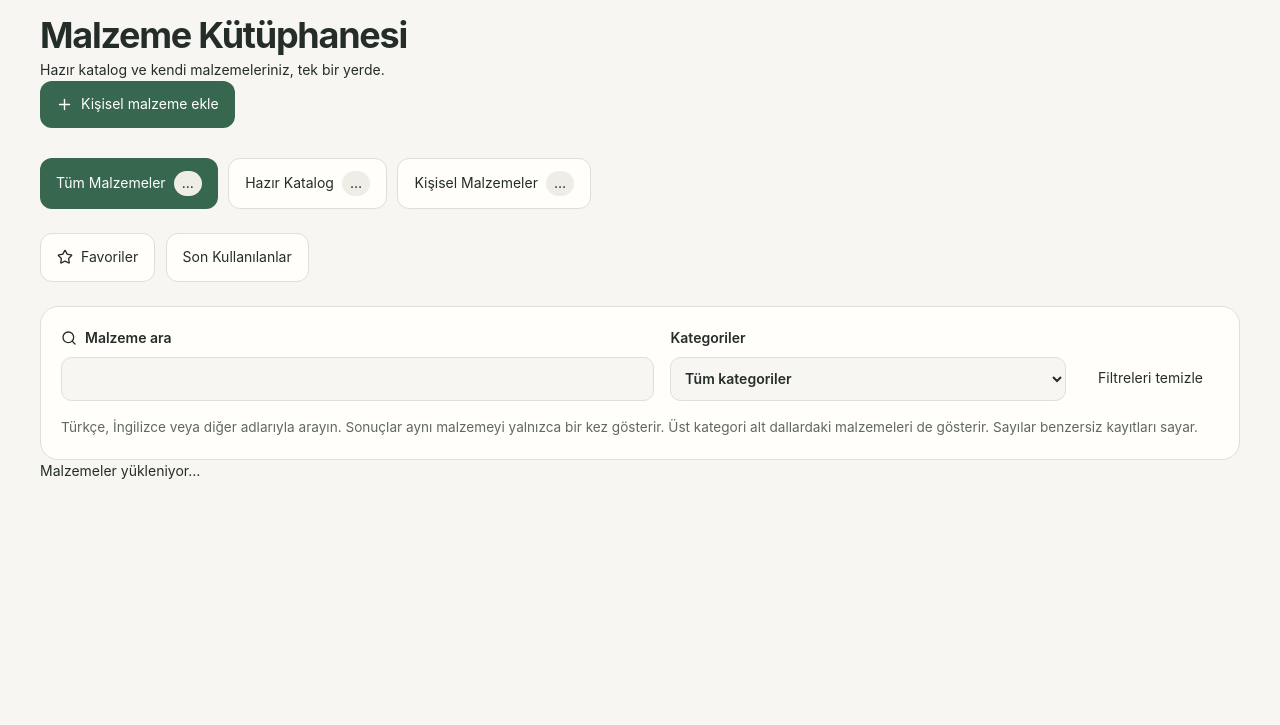
Test case: exact collision cannot be acknowledged as a new personal ingredient
Click the button "Kişisel malzeme ekle". click: (137, 104)
box: [40,81,235,128]
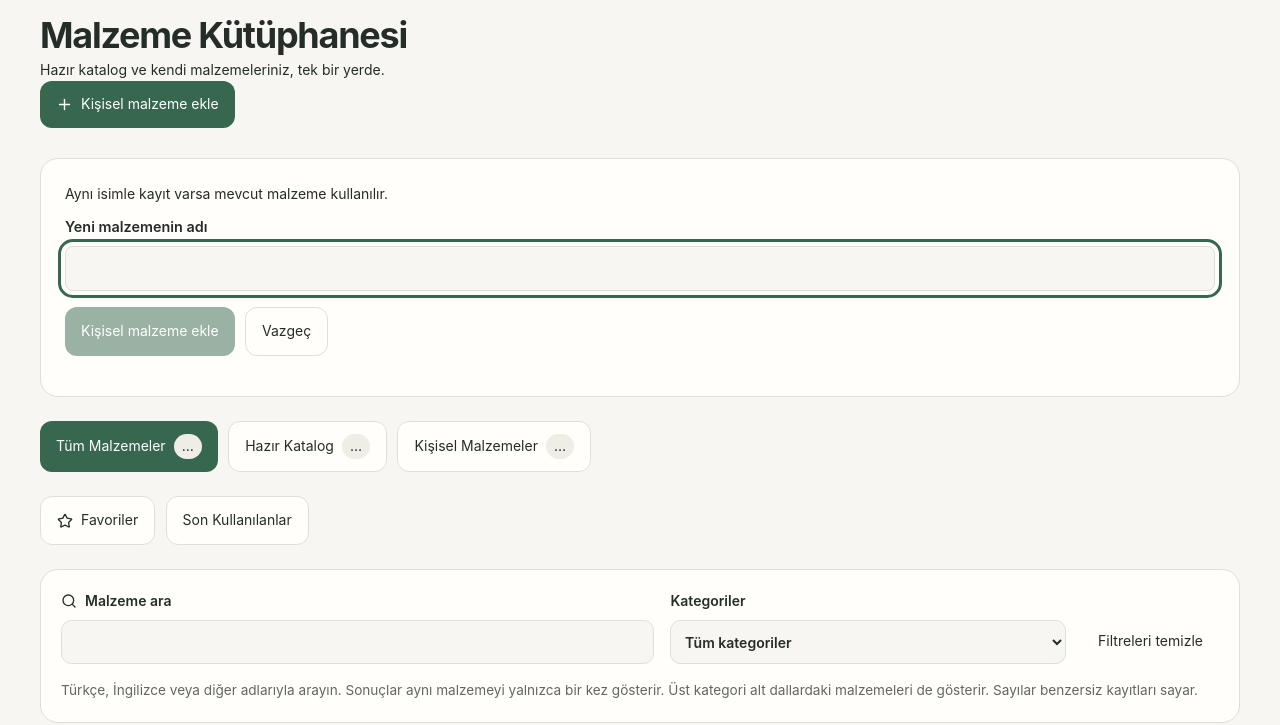
Type "Toz şeker" into the field labelled "Yeni malzemenin adı". click: (640, 268)
box: [65,246,1215,291]
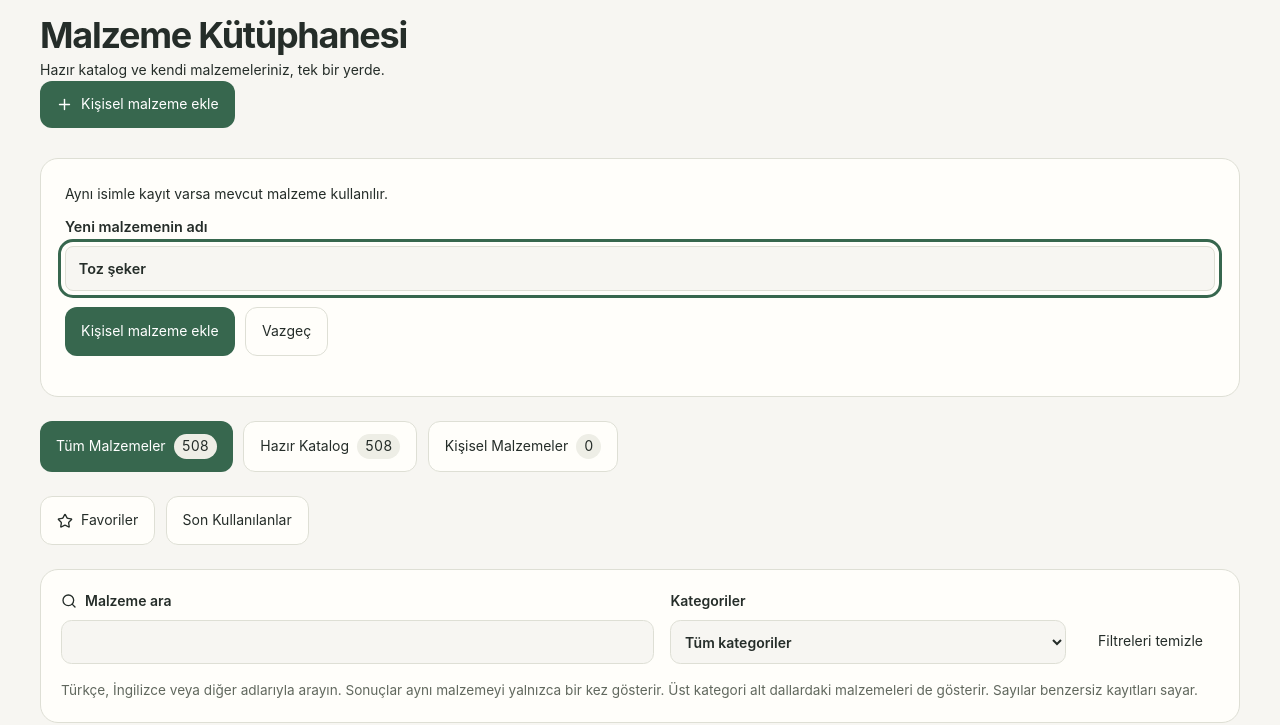
Click the button "Kişisel malzeme ekle" below "Yeni malzemenin adı". click: (150, 332)
box: [65,307,235,356]
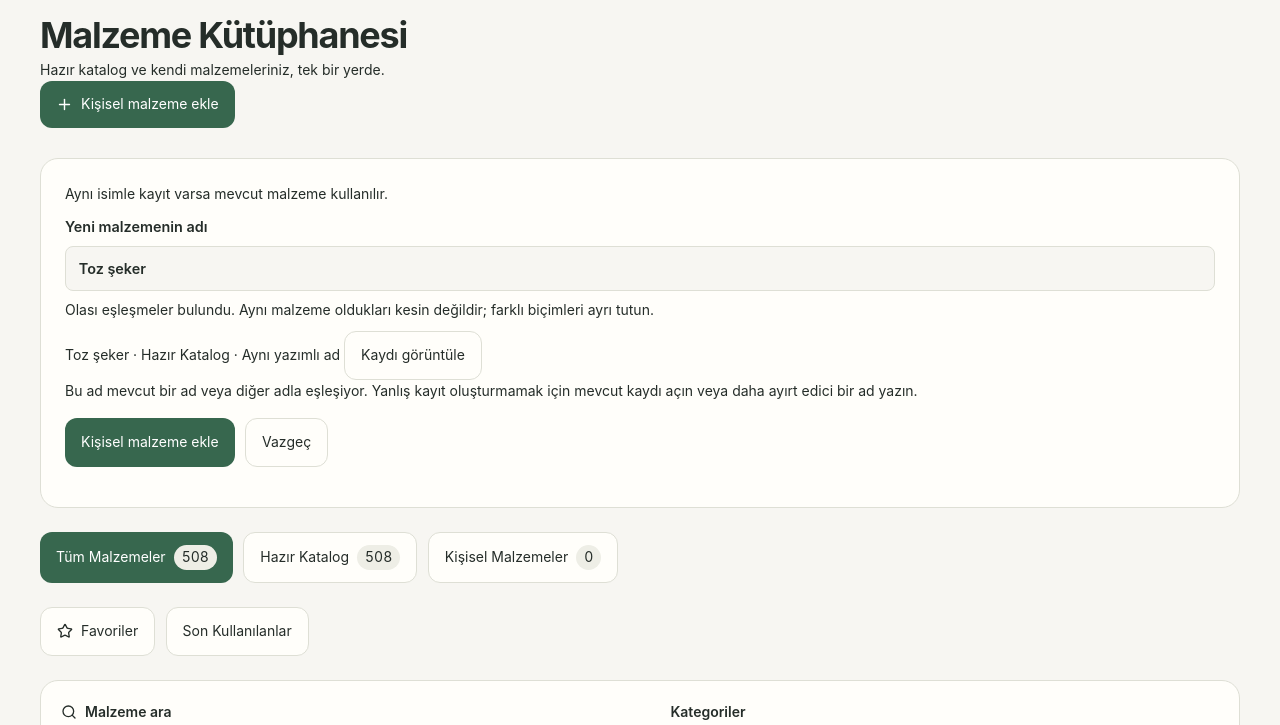
Now the text "Bu ad mevcut bir ad veya diğer adla eşleşiyor" is shown, box [65,382,918,399]
